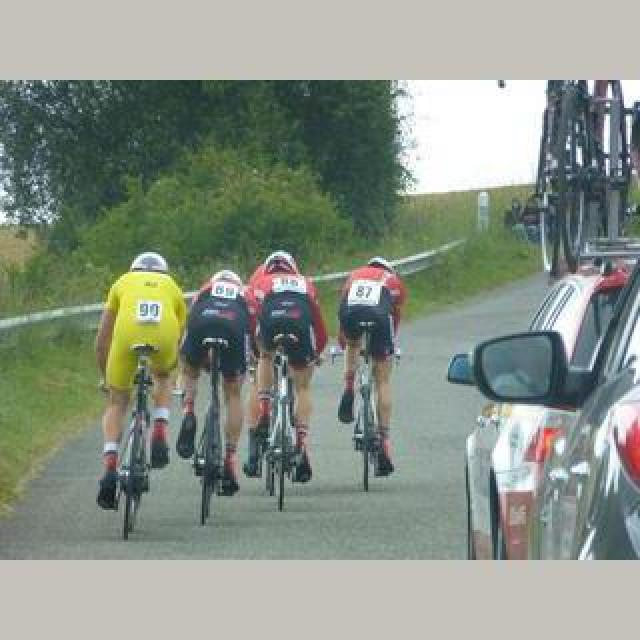Bus-Bike: (446, 254, 640, 556)
MC-Bike: (94, 250, 188, 470), (246, 252, 328, 480), (178, 266, 256, 490), (334, 260, 408, 466)
Person: (525, 81, 615, 285), (109, 345, 171, 539), (253, 348, 309, 514), (190, 354, 240, 526), (346, 358, 390, 490)
